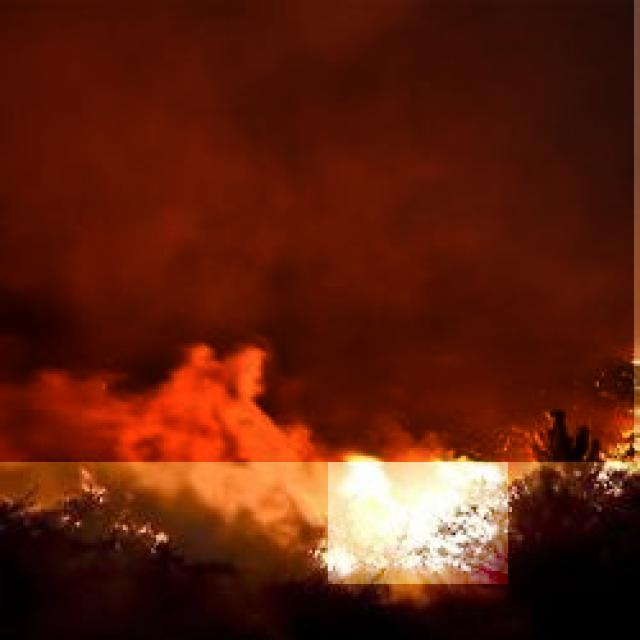Fire: (328, 442, 508, 584)
Smoke: (0, 0, 634, 462)
